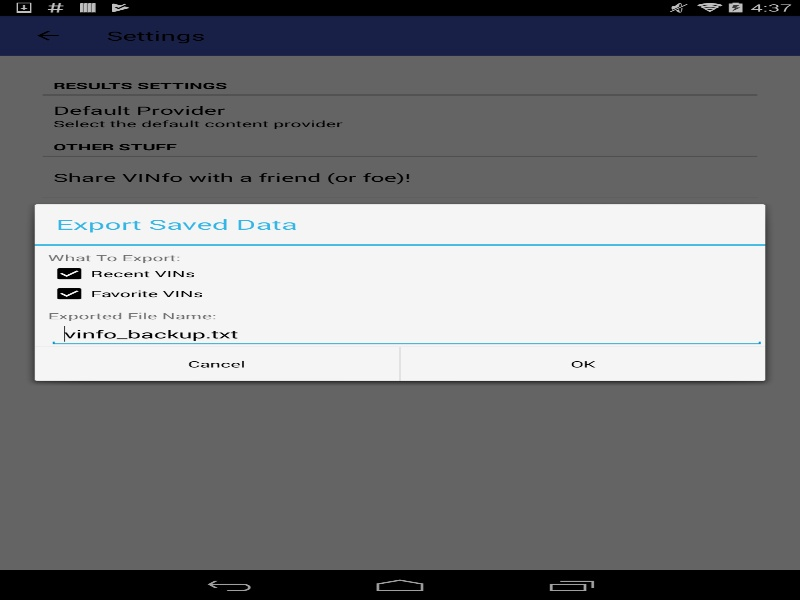Button: (34, 347, 399, 380), (400, 347, 765, 380)
Input: (48, 321, 765, 346)
